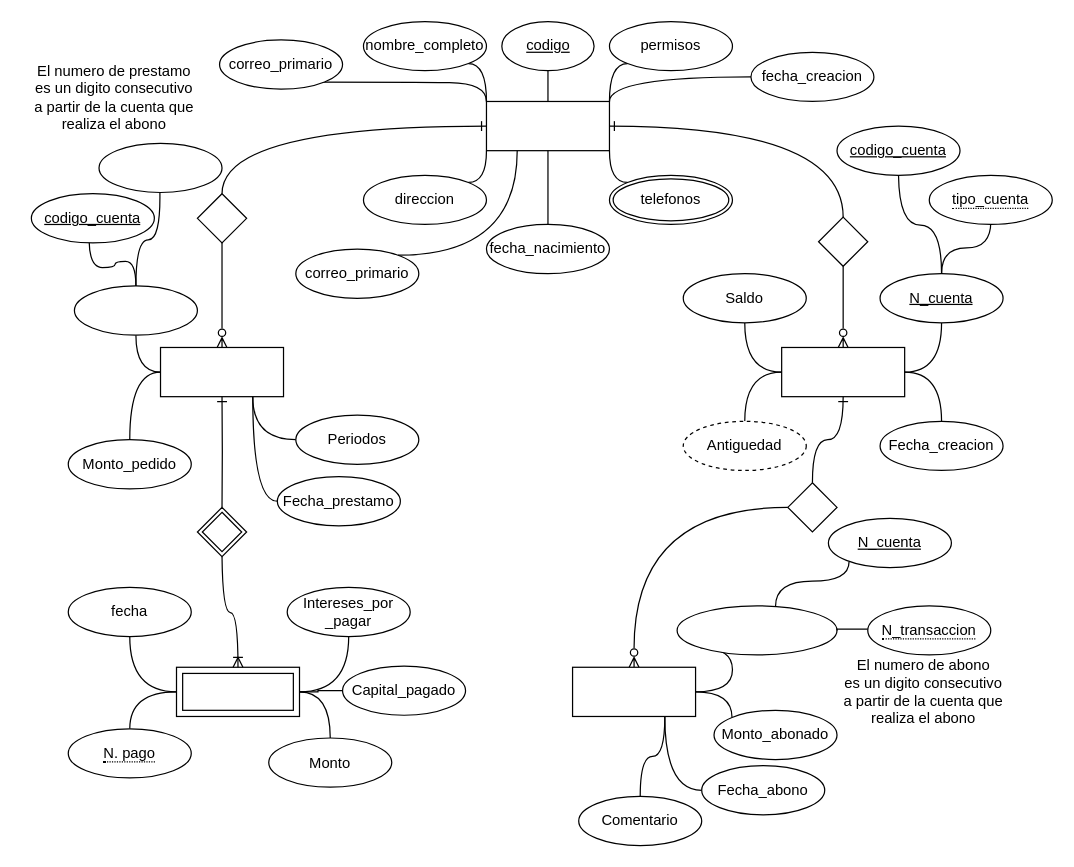
This 1074x867 diagram has some shape labels left out. The centre of each missing label's shape, as x and y in pixels:
"codigo_prestamo" goes at (135,310).
"Codigo_transaccion" goes at (756,630).
"Cuenta" goes at (842,371).
"N_prestamo" goes at (160,167).
"Pago" goes at (237,691).
"Prestamos" goes at (221,371).
"transaccion" goes at (633,691).
"Usuario" goes at (547,125).
